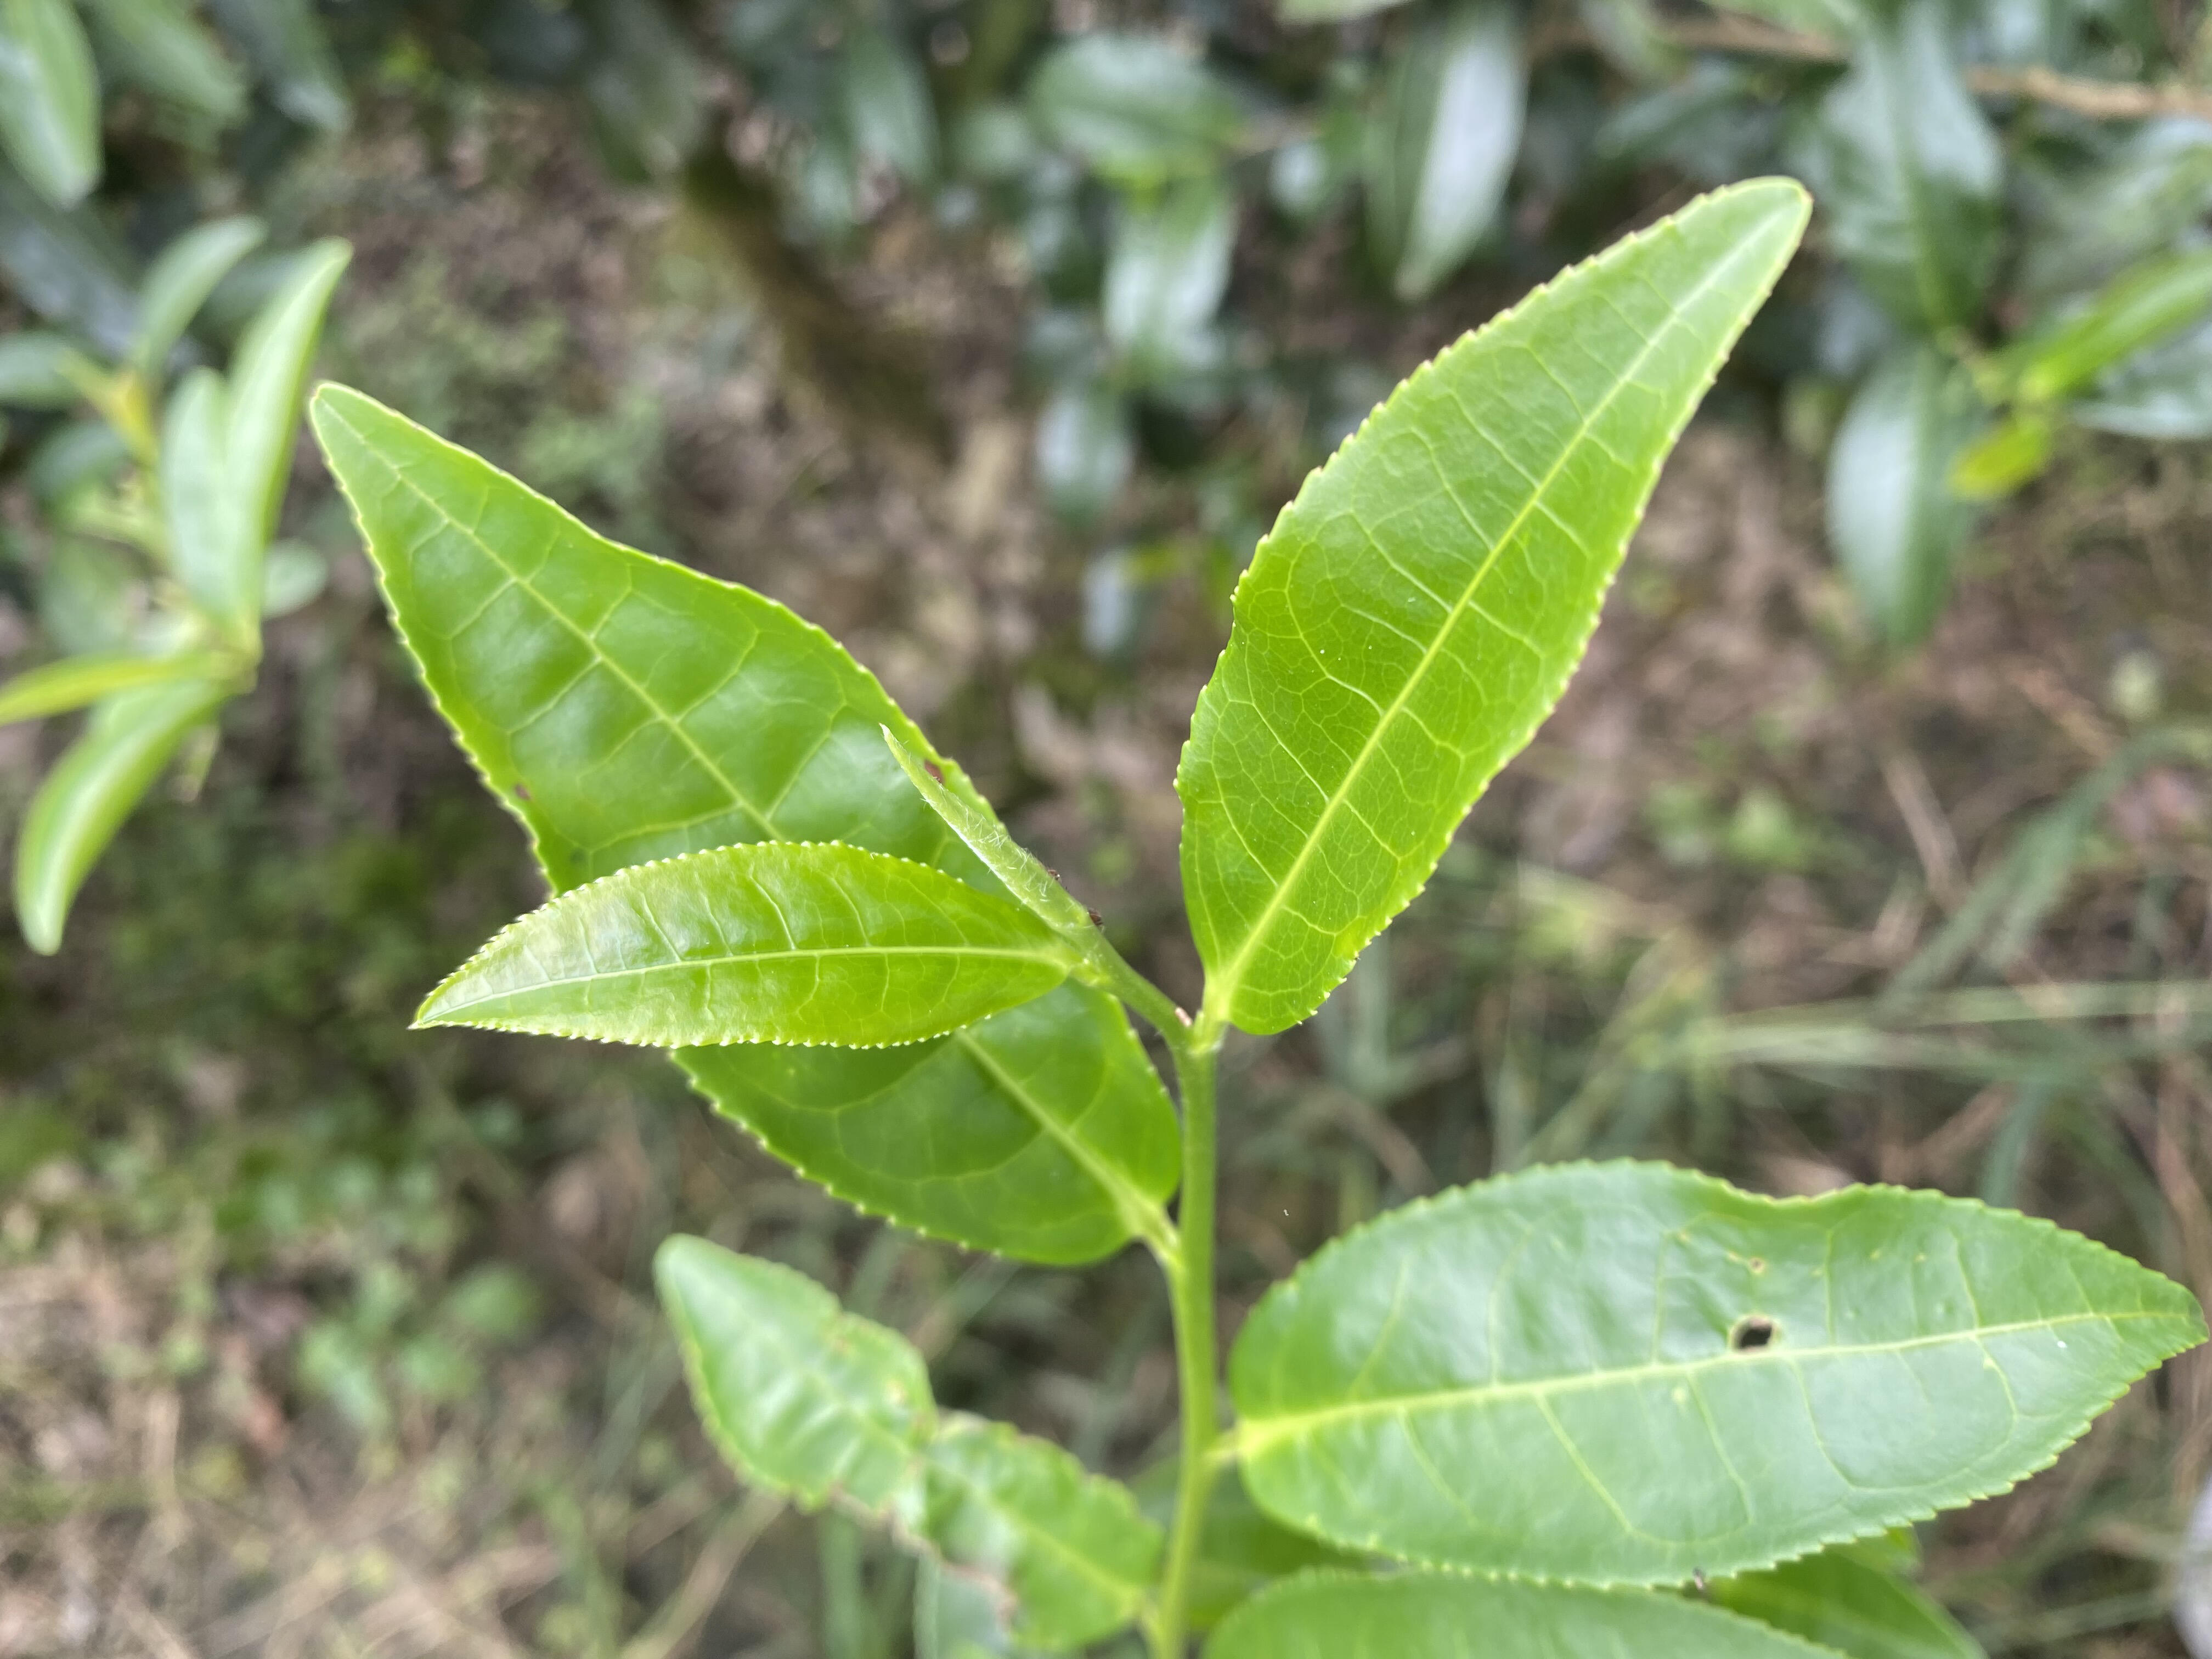chihuo_high: (650, 1234, 1167, 1652)
chihuo_low: (1231, 1155, 2207, 1596)
healthy: (310, 380, 1177, 1265), (1167, 174, 1813, 1032), (408, 836, 1066, 1049)
